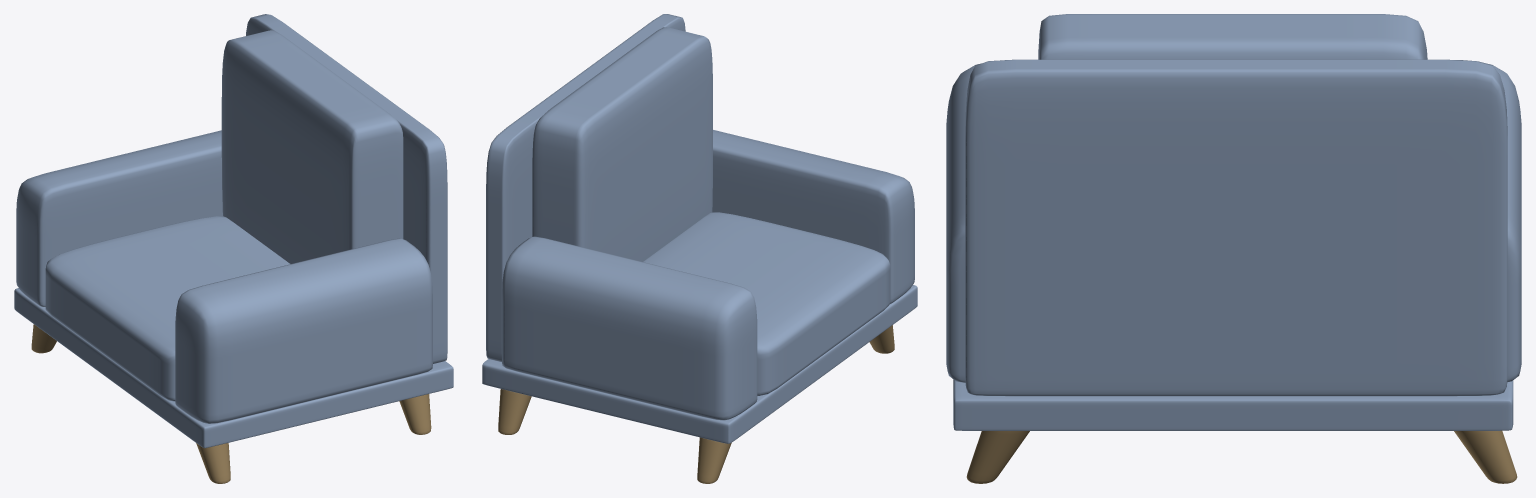
File: MM_SofaPequeno.fbx
The picture shows the model from 3 angles, left to right: view 1: azimuth 30°, elevation 25°; view 2: azimuth 150°, elevation 25°; view 3: azimuth 270°, elevation 25°; orthographic projection. The views are drawn at different scales.
Visible parts, largest first — view 1: SillonAux_pCube1; view 2: SillonAux_pCube1; view 3: SillonAux_pCube1.
Boxes of the visible parts, x1,y1,x2,y2 form: SillonAux_pCube1: (14, 14, 453, 483); SillonAux_pCube1: (482, 14, 917, 483); SillonAux_pCube1: (946, 14, 1521, 483).
Bounding box in the file's own units: 11.55 × 12.81 × 15.39.
